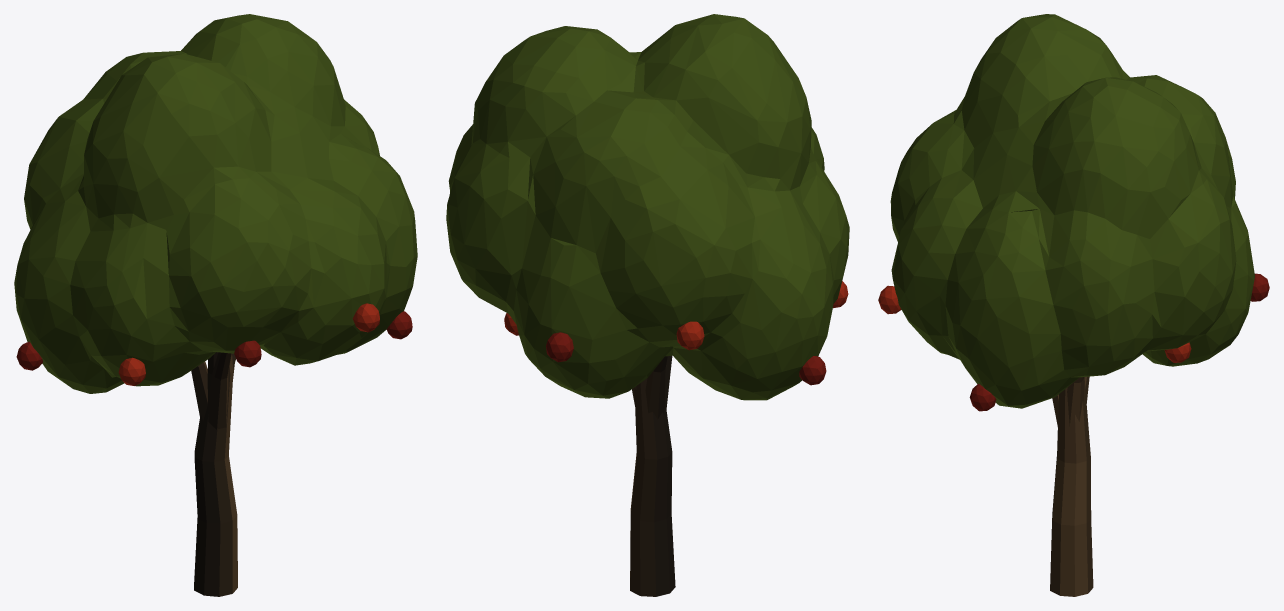
Rendered from lwf_tree_old_apple_v2.glb.
3 renders of one model, left to right at view 1: azimuth 30°, elevation 25°; view 2: azimuth 150°, elevation 25°; view 3: azimuth 270°, elevation 25°, orthographic. The views are drawn at different scales.
Visible parts, largest first — view 1: Crown, Trunk; view 2: Crown, Trunk; view 3: Crown, Trunk.
Part boxes in pixels (x1,y1,x2,y2): Crown: (14, 14, 417, 393); Trunk: (191, 352, 237, 596); Crown: (446, 14, 849, 400); Trunk: (630, 356, 675, 596); Crown: (878, 14, 1269, 411); Trunk: (1050, 376, 1093, 596).
Bounding box in the file's own units: 3.26 × 4.83 × 3.16.
Materials: 1 (1 with a texture image).
